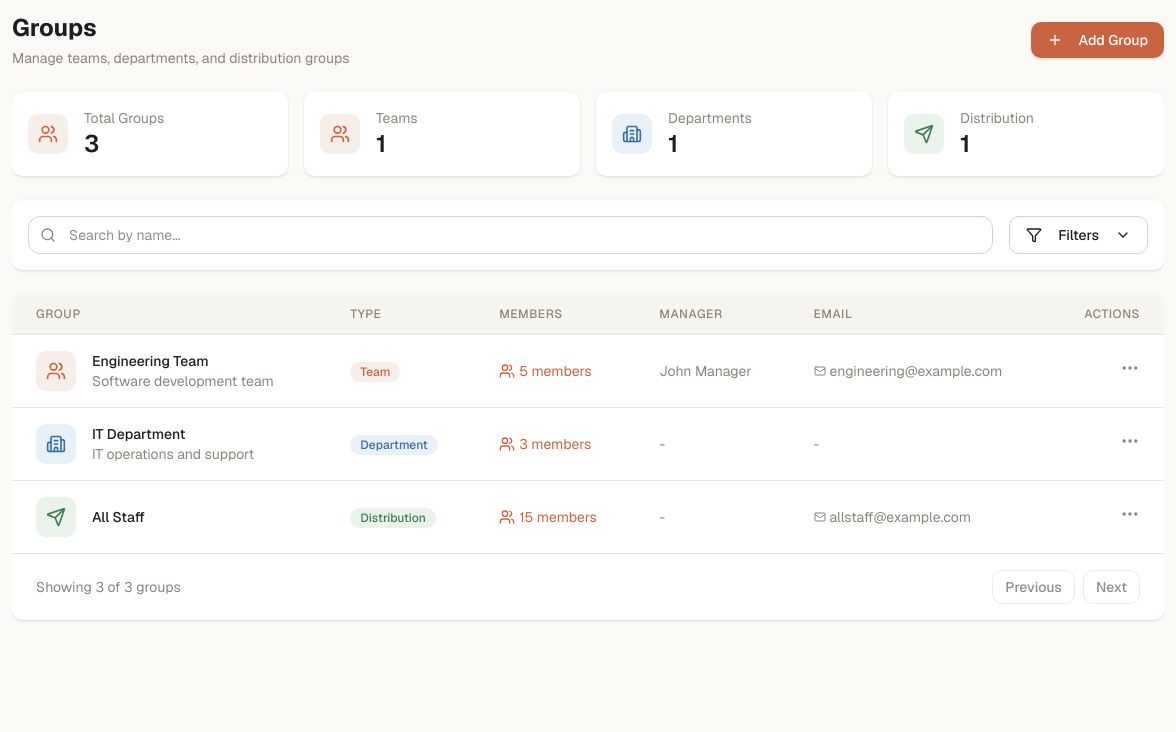
Test: GroupsPage › Search and Filters › shows filter panel when Filters button is clicked
Click the button "Filters": [1079, 235] box [1009,216,1148,254]
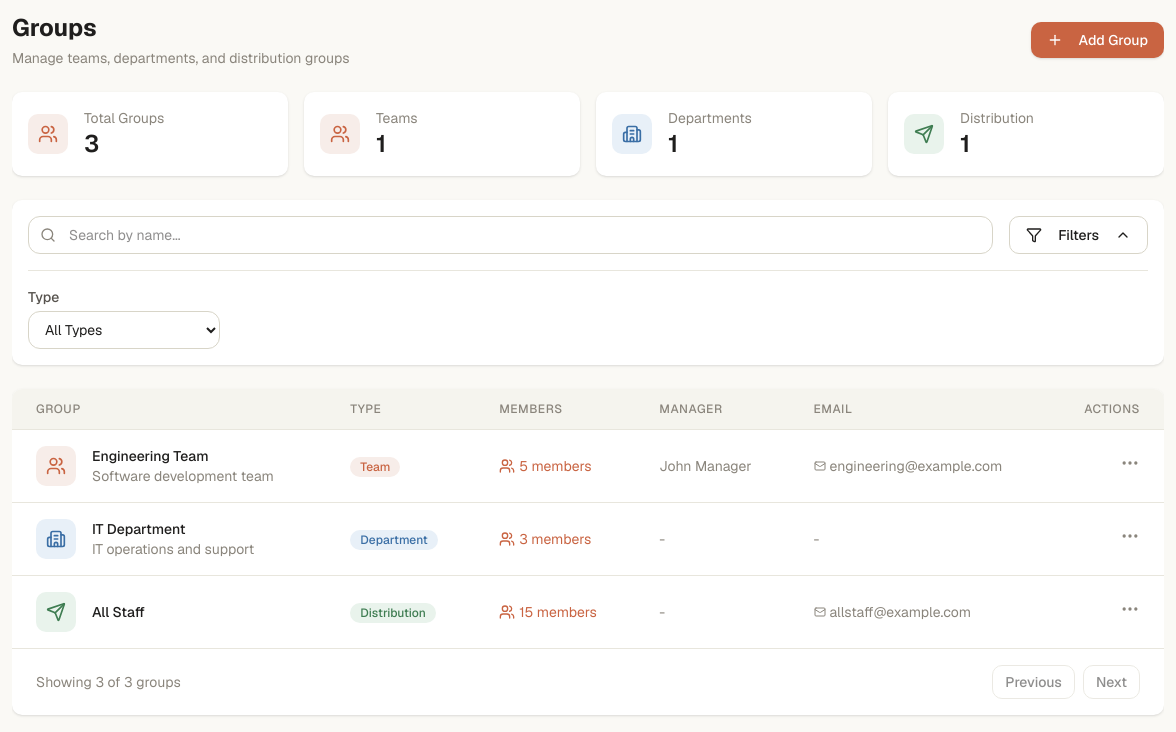
Result: the text "Type" is shown at [28,288,59,306]
